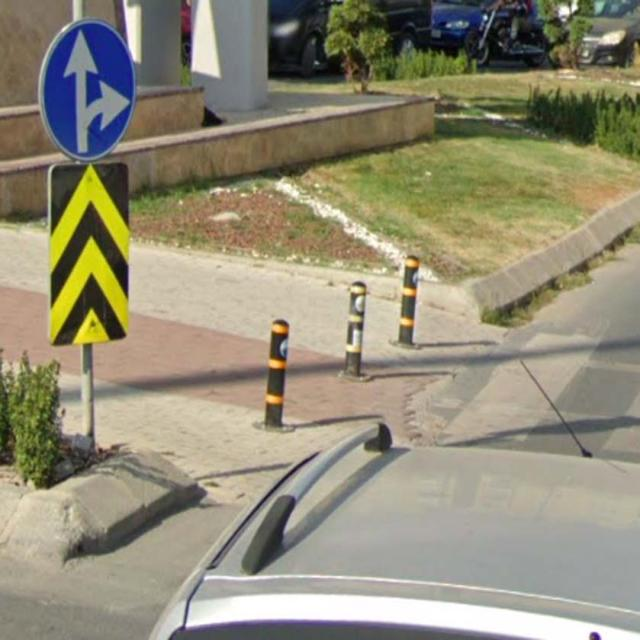ilerisag: (38, 18, 136, 157)
